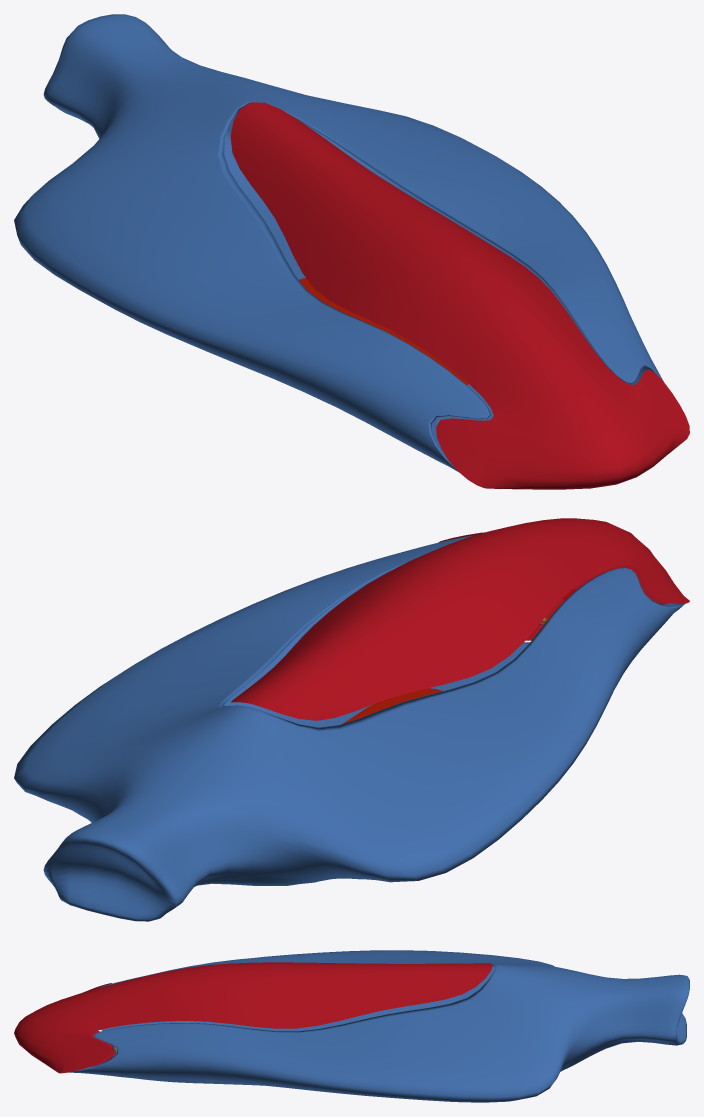
File: half_shippytesty.glb
The picture shows the model from 3 angles, top to bottom: view 1: azimuth 30°, elevation 25°; view 2: azimuth 150°, elevation 25°; view 3: azimuth 270°, elevation 25°; orthographic projection. The views are drawn at different scales.
Visible parts, largest first — view 1: ship_body, Ship_Canopy, Cube.001; view 2: ship_body, Ship_Canopy, Cube.001; view 3: ship_body, Ship_Canopy.
Boxes of the visible parts, x1,y1,x2,y2 form: ship_body: (14,14,663,471); Ship_Canopy: (230,102,689,489); Cube.001: (299,278,468,384); ship_body: (14,535,684,921); Ship_Canopy: (231,518,689,720); Cube.001: (343,688,442,723); ship_body: (69,950,689,1102); Ship_Canopy: (14,962,492,1073).
Bounding box in the file's own units: 7.61 × 2.39 × 15.39.
